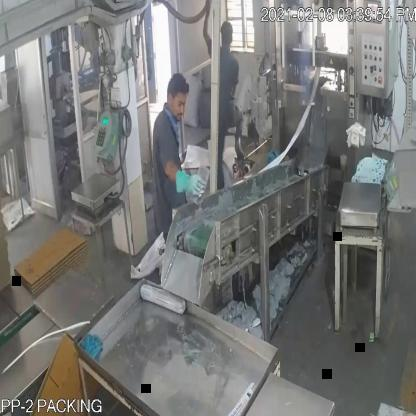glove: (161, 155, 207, 202)
